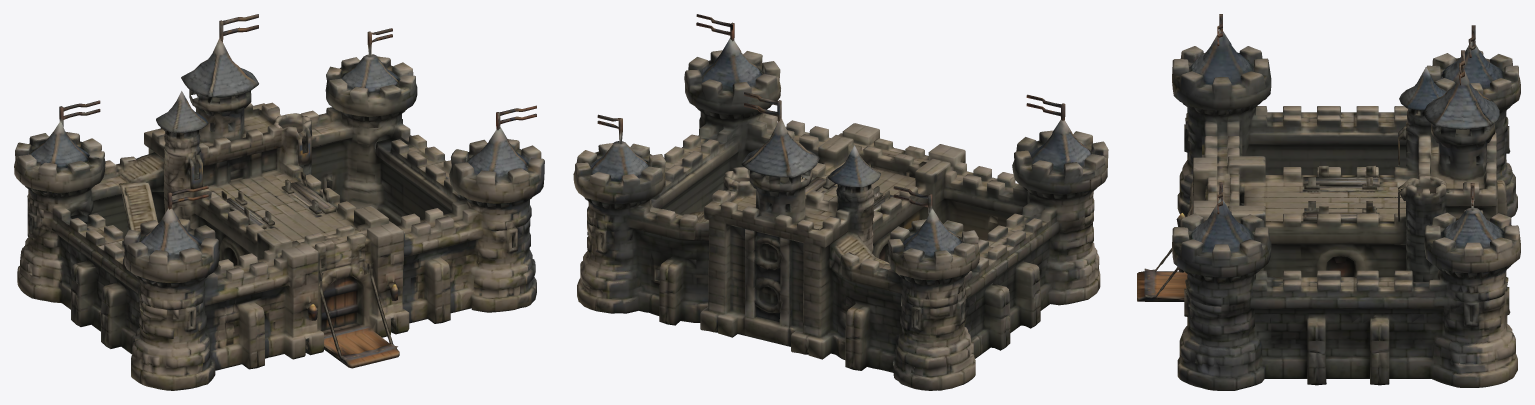
Rendered from medieval castle 3d model.glb.
The picture shows the model from 3 angles, left to right: view 1: azimuth 30°, elevation 25°; view 2: azimuth 150°, elevation 25°; view 3: azimuth 270°, elevation 25°; orthographic projection. The views are drawn at different scales.
Parts seen in each view (by area): view 1: tripo_node_8810080d-d628-4759-a460-a33c7b4a5a0b; view 2: tripo_node_8810080d-d628-4759-a460-a33c7b4a5a0b; view 3: tripo_node_8810080d-d628-4759-a460-a33c7b4a5a0b.
Part boxes in pixels (bbox=[...]): tripo_node_8810080d-d628-4759-a460-a33c7b4a5a0b: bbox=[14, 14, 544, 390]; tripo_node_8810080d-d628-4759-a460-a33c7b4a5a0b: bbox=[573, 14, 1108, 390]; tripo_node_8810080d-d628-4759-a460-a33c7b4a5a0b: bbox=[1137, 14, 1520, 390].
Bounding box in the file's own units: 0.9766 × 0.5256 × 0.7588.
Materials: 1 (1 with a texture image).
